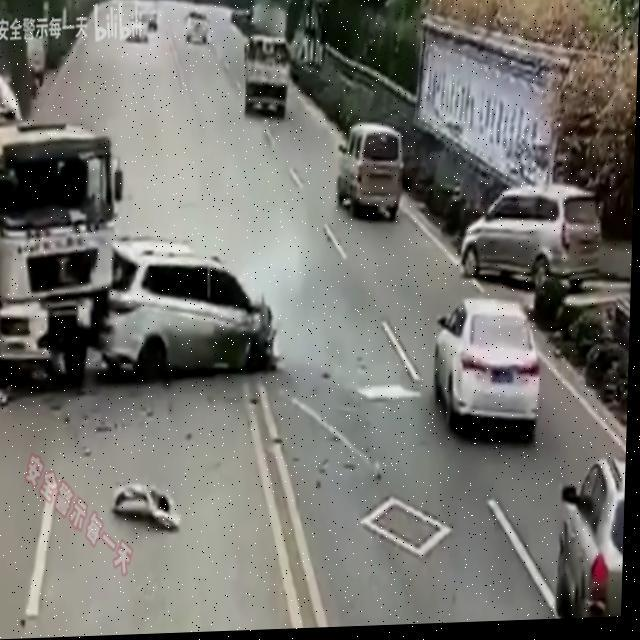multiple_accident: (7, 117, 300, 417)
normal: (399, 284, 563, 469), (520, 454, 640, 631), (467, 186, 620, 284), (316, 106, 420, 209), (226, 30, 307, 130), (120, 4, 234, 59)
